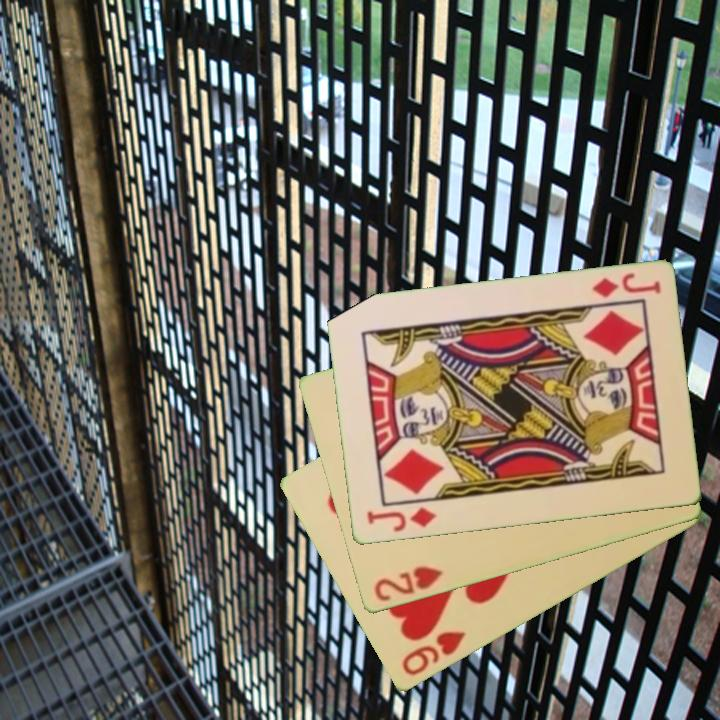2h: (370, 563, 446, 605)
9h: (398, 628, 469, 680)
Jd: (363, 504, 439, 536), (588, 269, 664, 301)
